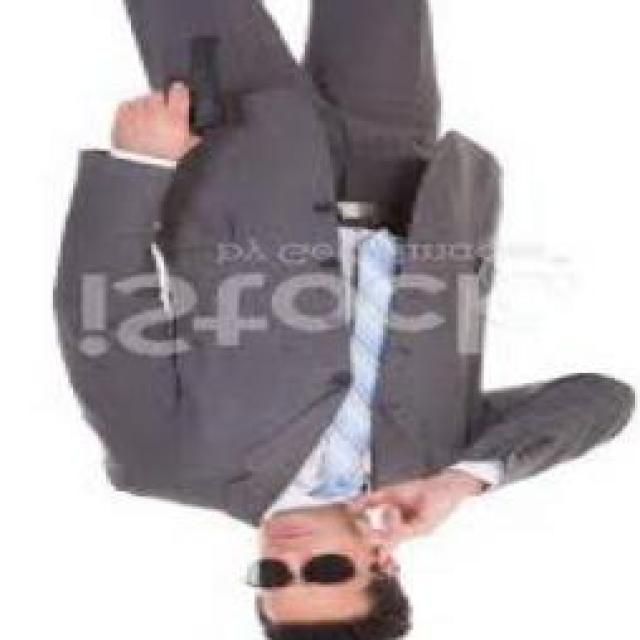pistol: (104, 29, 230, 136)
